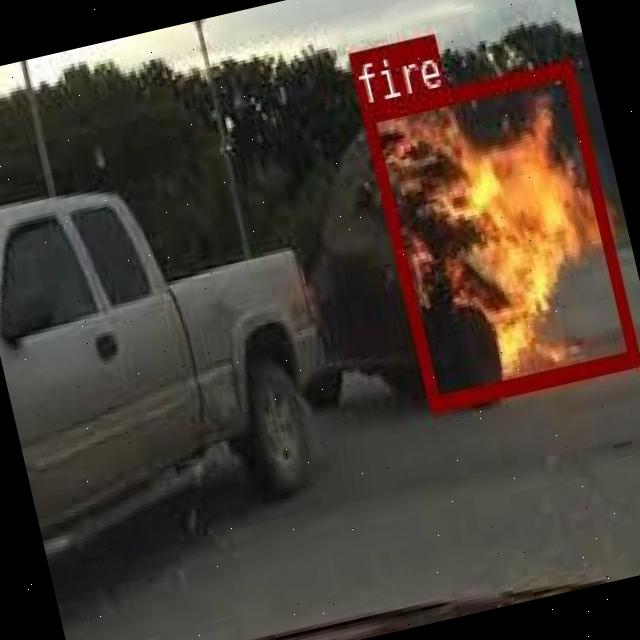fire: (360, 59, 638, 410)
